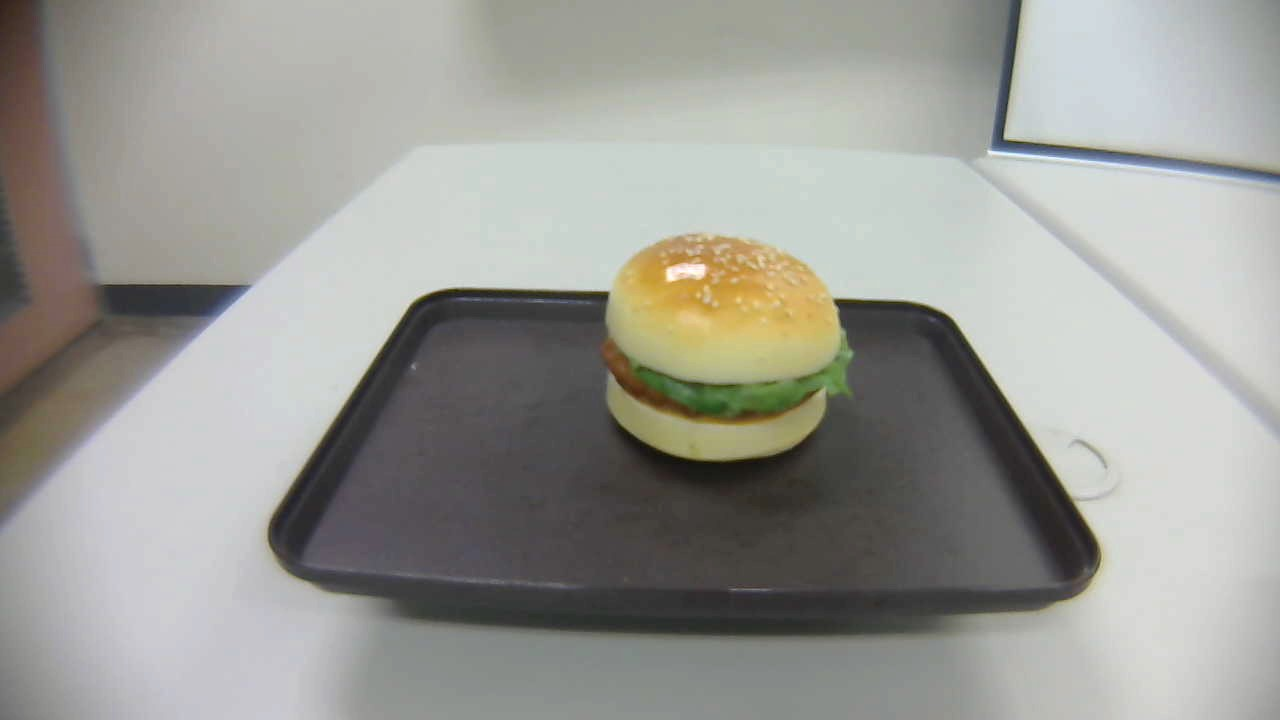hamburger: (602, 230, 856, 461)
